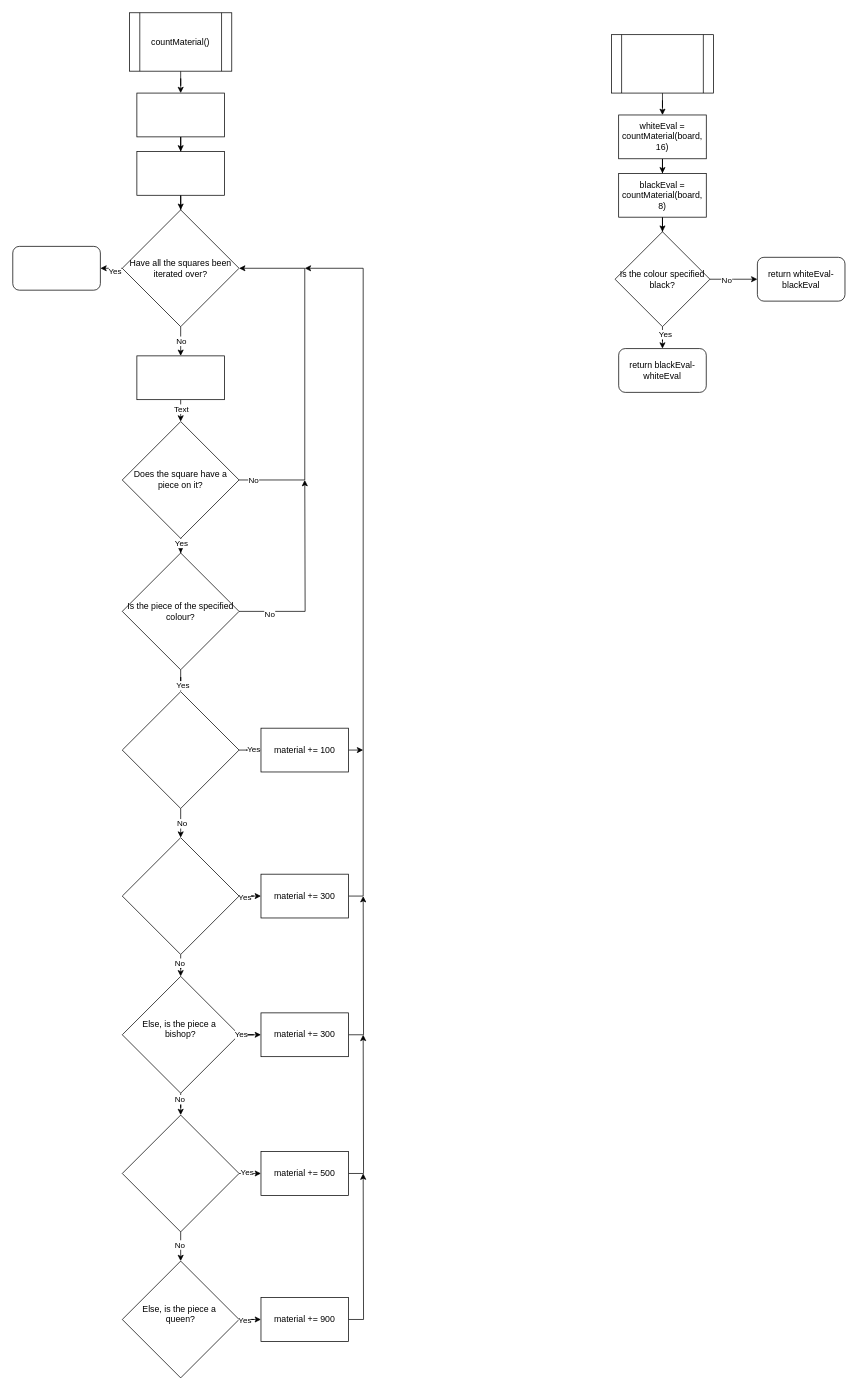
This 858x1391 diagram has some shape labels left out. The centre of each missing label's shape, as x and y in pixels:
"Begin looping though all the squares on the board" belongs at point (180, 173).
"Else, is the piece a knight?" belongs at point (180, 895).
"Else, is the piece a rook?" belongs at point (180, 1173).
"Evaluate()" belongs at point (662, 63).
"Is the piece a pawn?" belongs at point (180, 749).
"material = 0" belongs at point (180, 114).
"next square" belongs at point (180, 377).
"return Material" belongs at point (56, 268).
